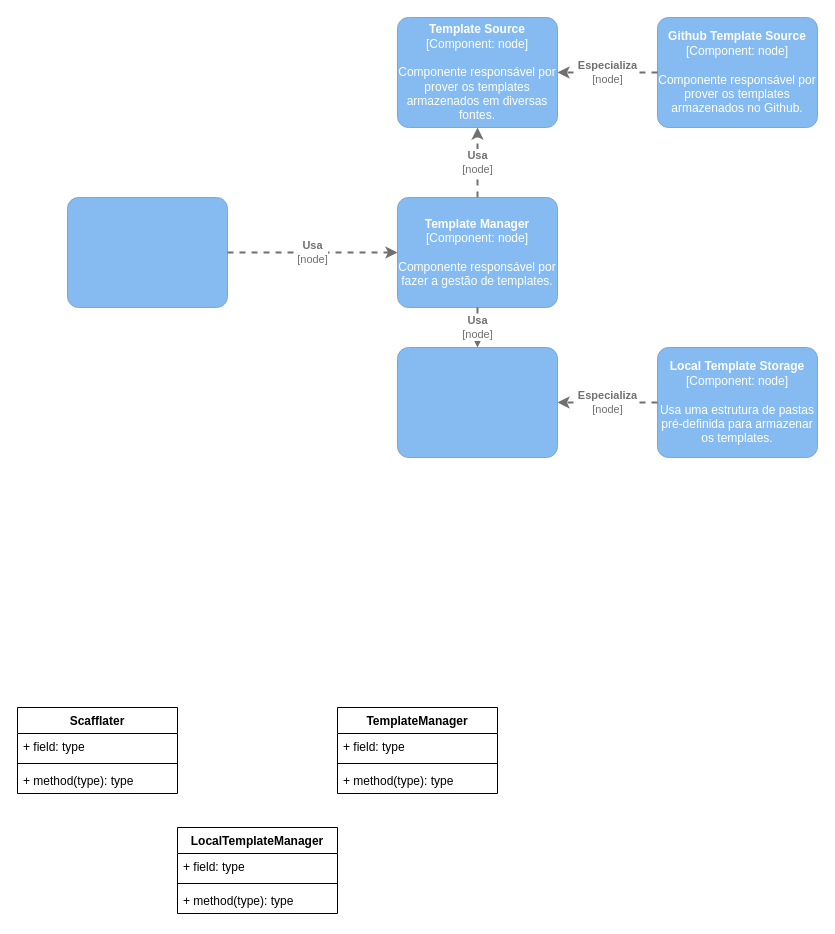
This 835x934 diagram has some shape labels left out. Each missing label, with the centre of its shape:
Scafflater [Component: node] Componente principal: point (147, 252)
Template Storage [Component: node] Componente armazenar templates utilizadoss: point (477, 402)
